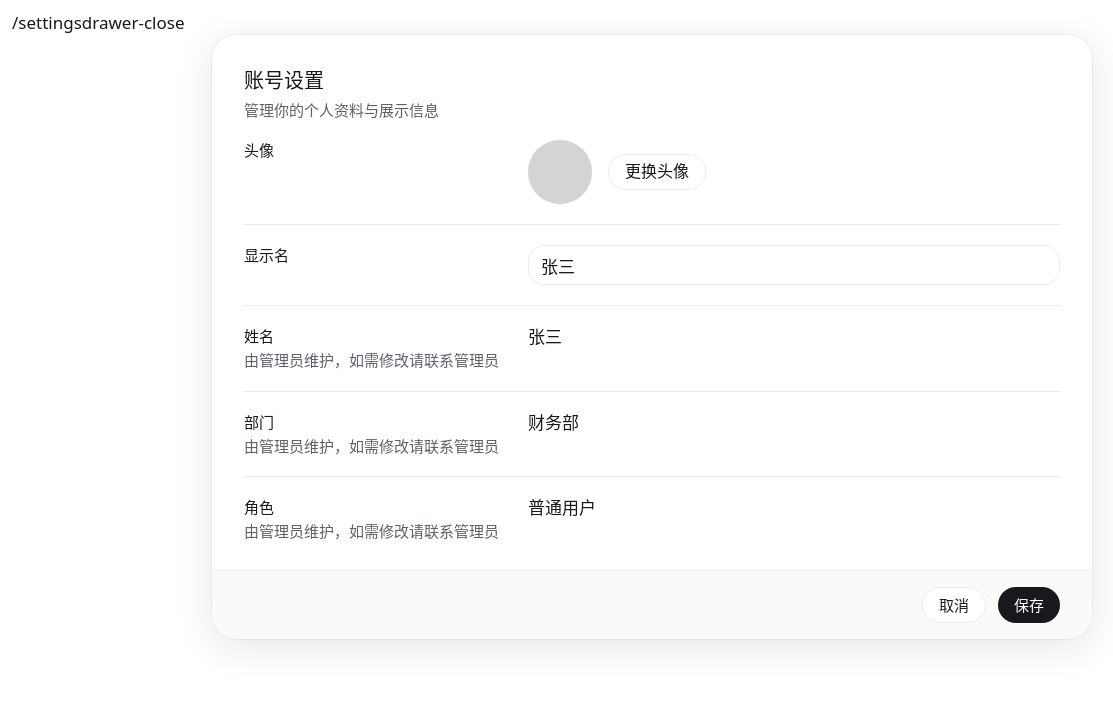
Test case: ProfileModule 草稿-保存语义 › 保存失败：就地错误行，按钮恢复可点，不显示「已保存」
Step 1. Replace the text in the field labelled "显示名" with "新名字" → (794, 265), box [528, 245, 1060, 285]
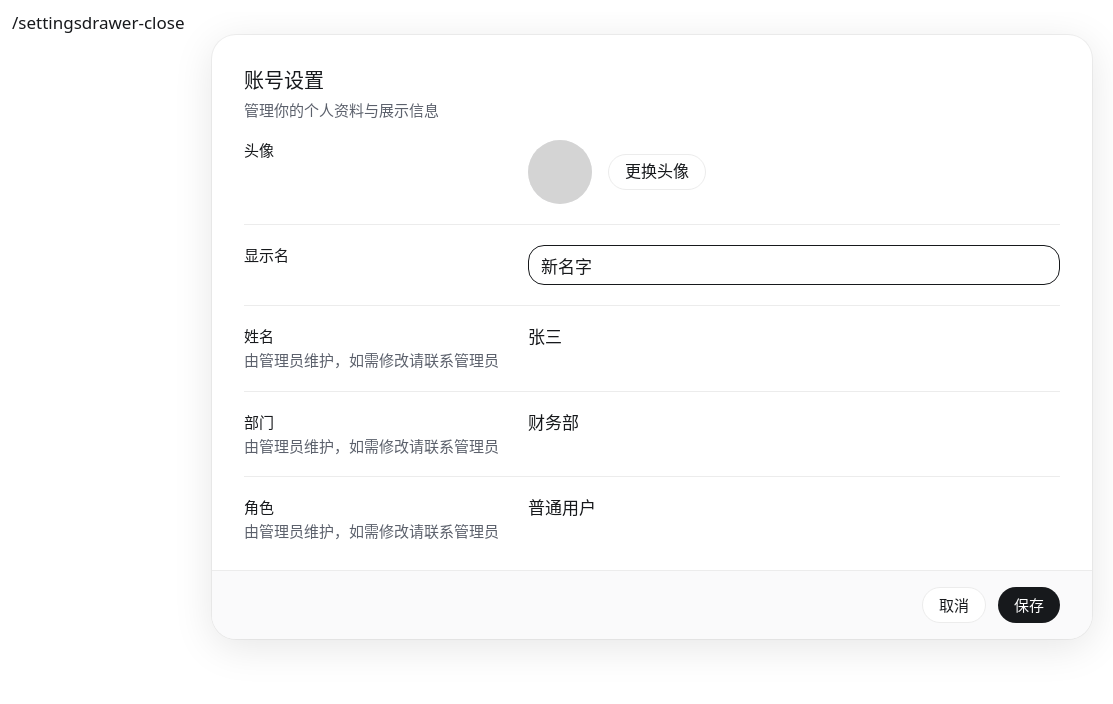
Step 2. Click the button "保存" → click(1029, 605), box [998, 587, 1060, 623]
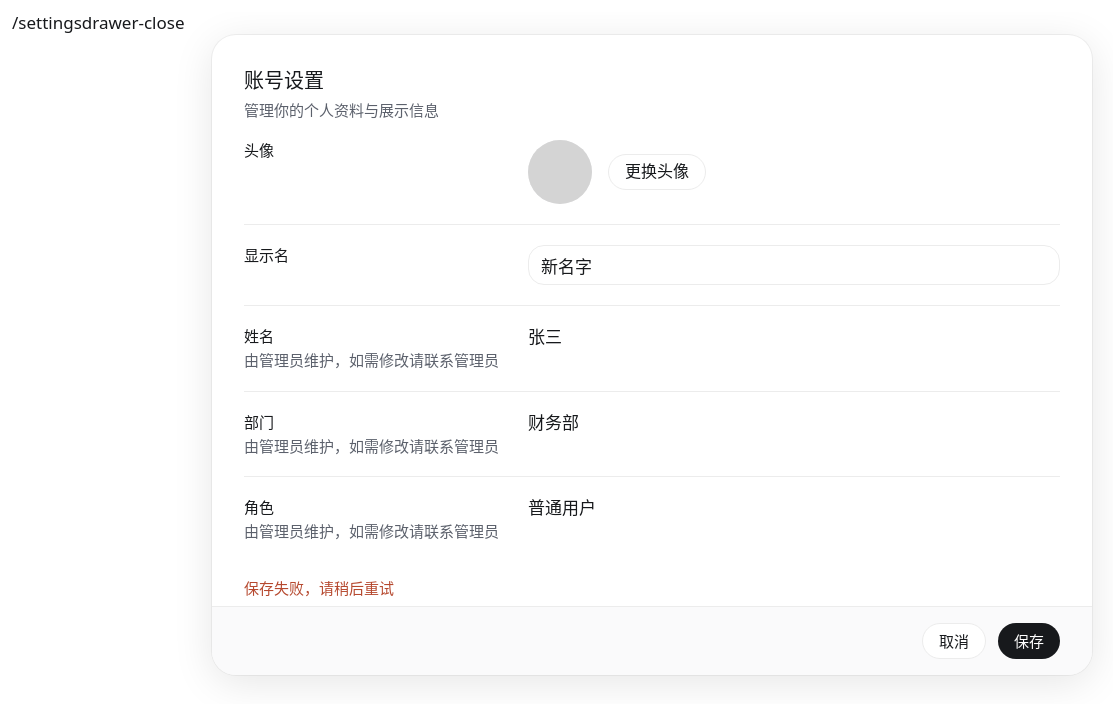
Expected: the button "保存" is enabled, [998, 623, 1060, 659]
Result: the message reads "保存失败，请稍后重试" at [244, 578, 394, 598]
